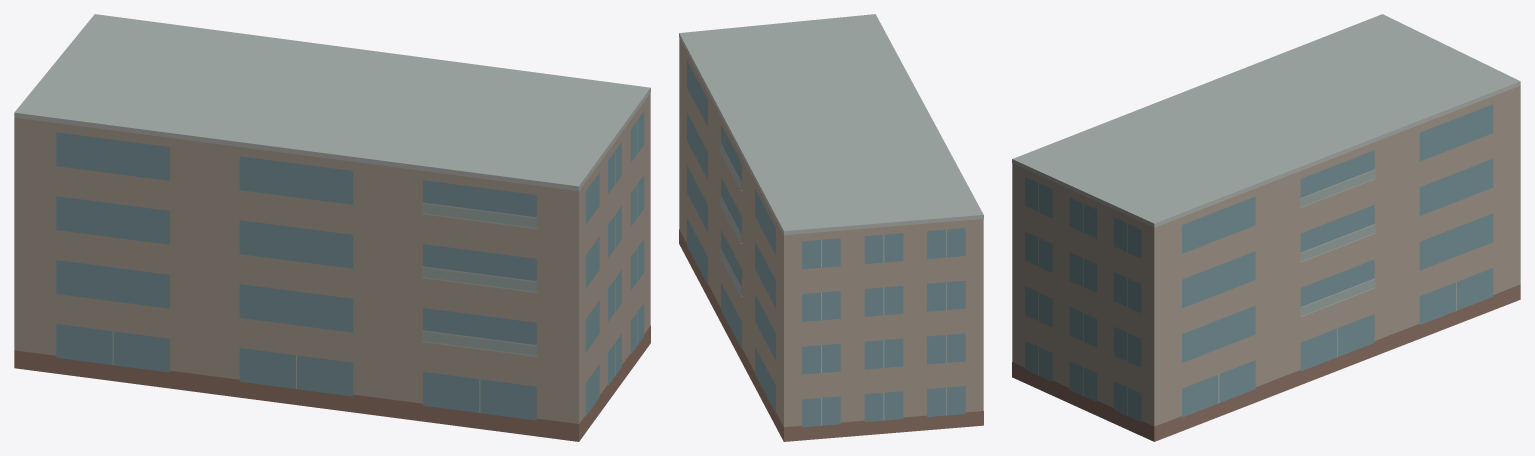
The model's file is survey-upis-32923573.glb.
3 renders of one model, left to right at view 1: azimuth 30°, elevation 25°; view 2: azimuth 150°, elevation 25°; view 3: azimuth 270°, elevation 25°, orthographic. The views are drawn at different scales.
Visible parts, largest first — view 1: survey-upis-32923573.tmp; view 2: survey-upis-32923573.tmp; view 3: survey-upis-32923573.tmp.
Boxes of the visible parts, x1,y1,x2,y2 form: survey-upis-32923573.tmp: (14,14,650,441); survey-upis-32923573.tmp: (679,14,983,441); survey-upis-32923573.tmp: (1012,14,1520,441).
Size of the model in its own units: 26.38 by 12.8 by 27.04.
